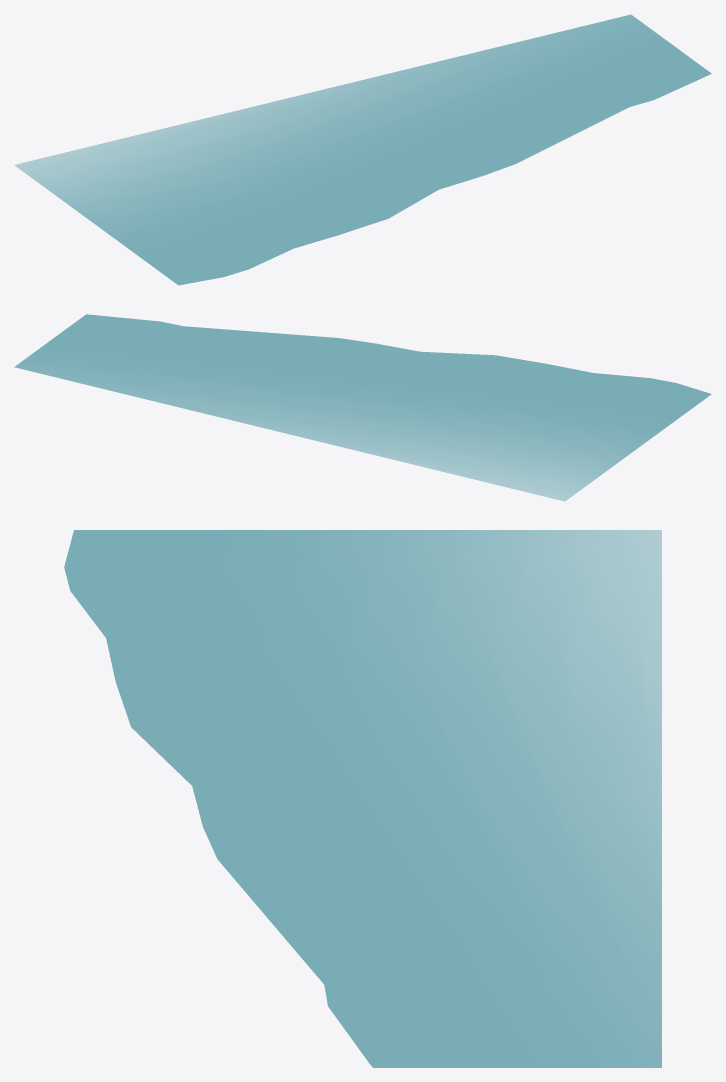
The picture shows the model from 3 angles, top to bottom: view 1: azimuth 30°, elevation 25°; view 2: azimuth 150°, elevation 25°; view 3: azimuth 270°, elevation 25°; orthographic projection. The views are drawn at different scales.
Visible parts, largest first — view 1: city; view 2: city; view 3: city.
Boxes of the visible parts, box(x1,y1,x2,y2) form: city: box(14, 14, 711, 285); city: box(14, 314, 711, 501); city: box(64, 530, 661, 1067).
Size of the model in its own units: 500 by 0 by 235.
